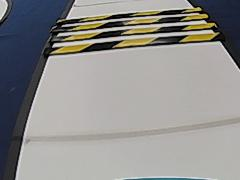bump: (43, 6, 226, 57)
